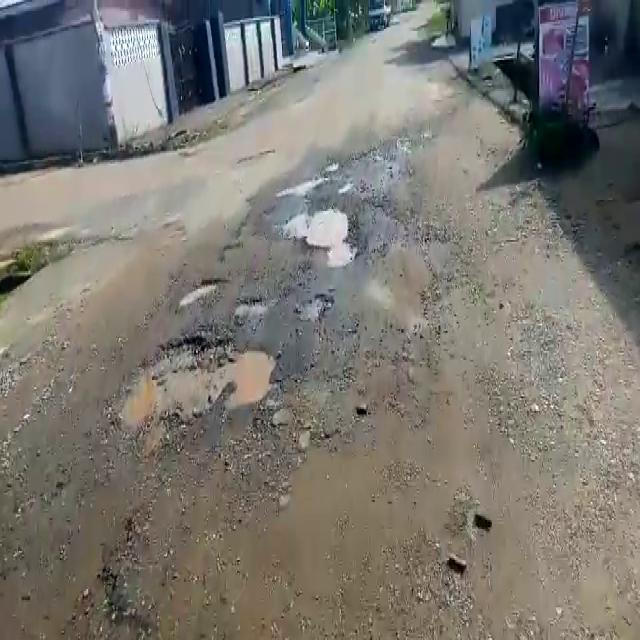Pothole: (112, 332, 281, 429), (277, 207, 355, 269), (182, 273, 230, 306), (289, 292, 328, 320), (234, 296, 272, 319)
